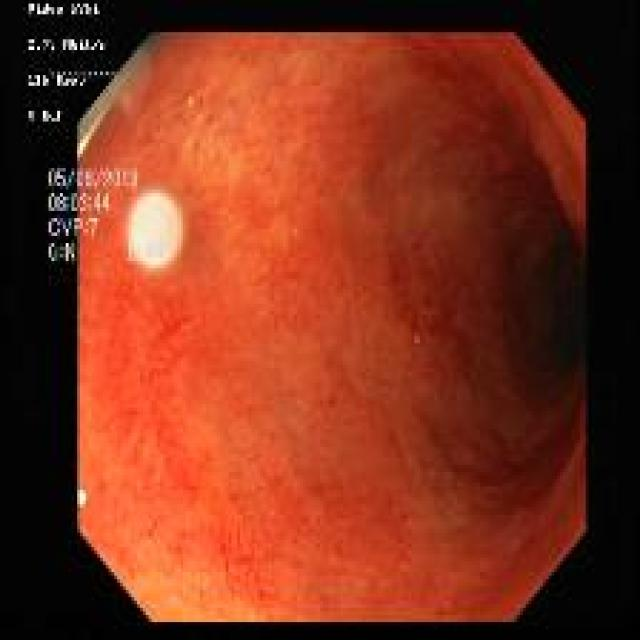ulcerative-colitis: (76, 33, 585, 623)
